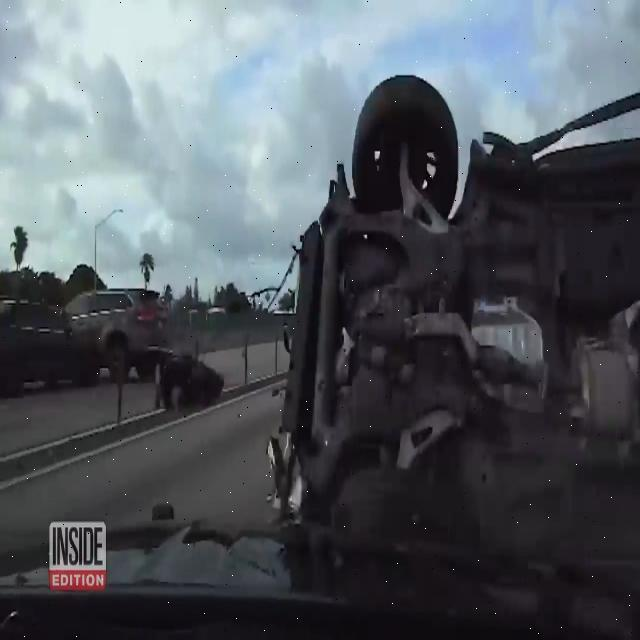accident: (271, 77, 640, 550)
